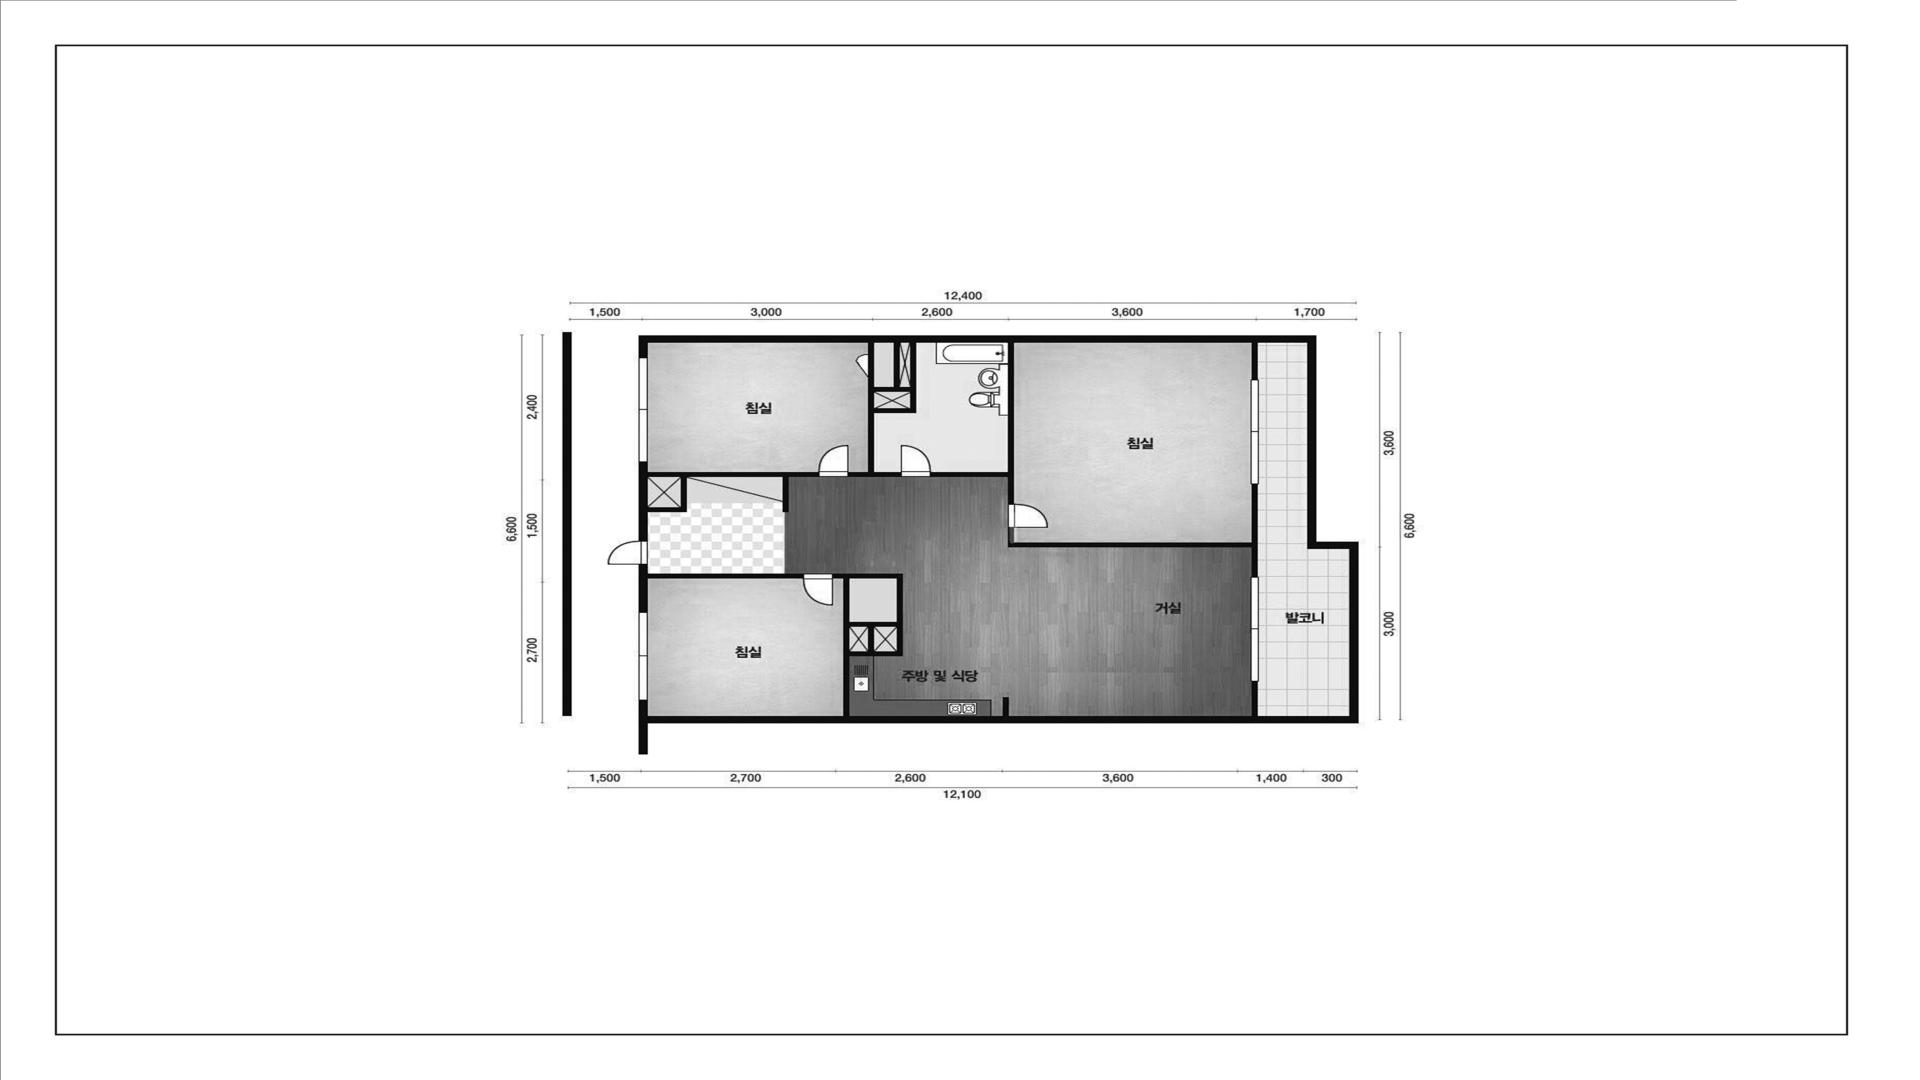background: (0, 0, 1920, 1080)
door: (1007, 504, 1048, 529), (819, 444, 849, 477), (901, 444, 931, 477), (803, 574, 833, 605), (608, 541, 647, 564)
wall: (638, 335, 1358, 724), (1007, 485, 1258, 576), (931, 343, 1014, 504), (833, 574, 903, 716), (848, 343, 916, 477), (647, 472, 819, 512), (562, 332, 572, 716), (849, 579, 897, 622), (647, 574, 803, 579), (638, 462, 647, 541), (638, 564, 647, 612), (1251, 343, 1258, 380), (1251, 682, 1258, 716), (1002, 698, 1009, 716)
window: (1250, 576, 1259, 682), (1250, 380, 1259, 485), (638, 357, 647, 462), (638, 612, 647, 700)
